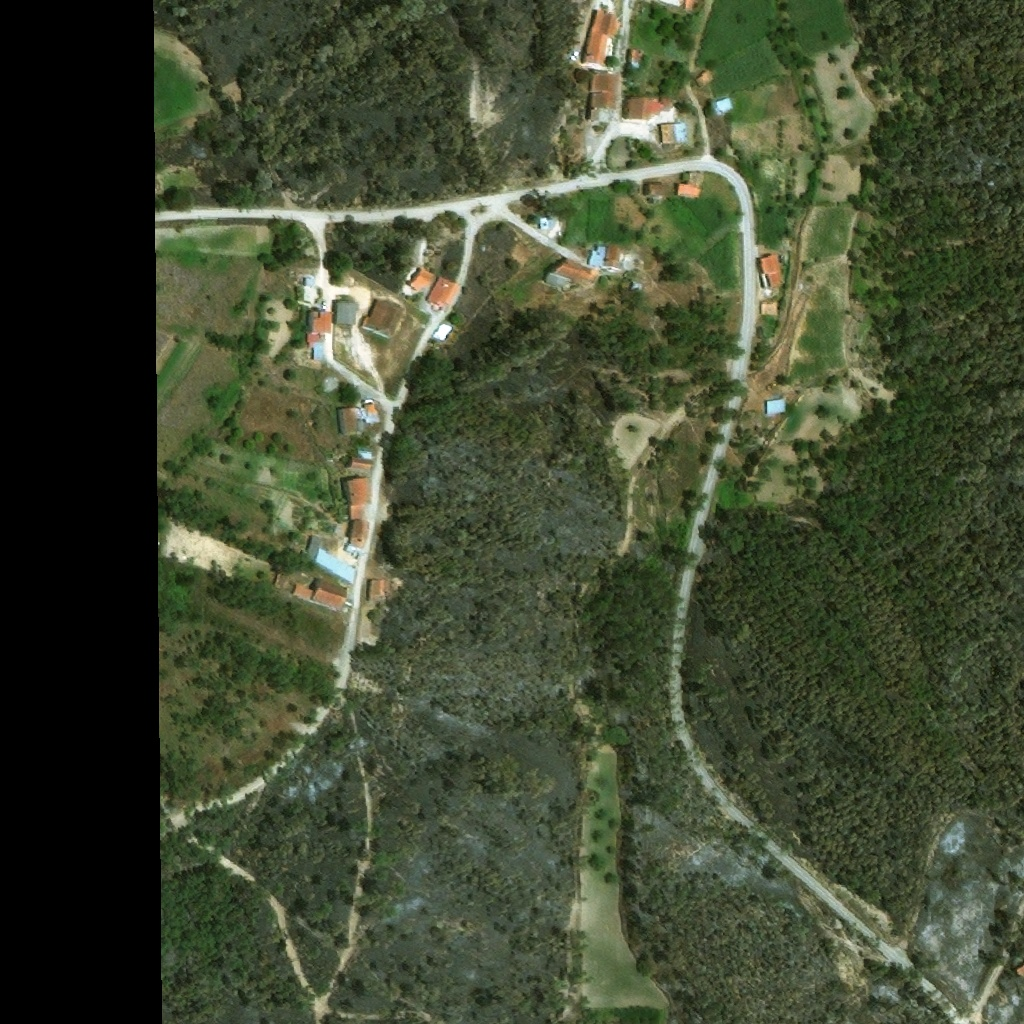0 no-damage: (299, 537, 357, 583), (579, 8, 619, 73), (291, 577, 349, 611), (358, 300, 402, 340), (543, 258, 598, 288), (337, 398, 378, 434), (586, 74, 616, 121), (306, 309, 332, 362), (621, 96, 672, 122), (340, 476, 370, 520), (424, 276, 457, 311), (344, 521, 370, 558), (758, 254, 781, 289), (675, 171, 703, 197), (404, 266, 432, 292), (660, 121, 689, 142), (643, 182, 672, 203), (333, 300, 357, 324), (709, 96, 732, 116), (350, 450, 373, 470), (367, 579, 385, 602), (302, 277, 318, 301), (588, 244, 605, 266), (764, 399, 785, 415), (694, 70, 712, 88), (605, 244, 621, 262), (626, 49, 639, 68), (760, 302, 776, 316), (537, 216, 549, 228), (633, 281, 641, 288)
4 un-classified: (683, 0, 695, 9)
